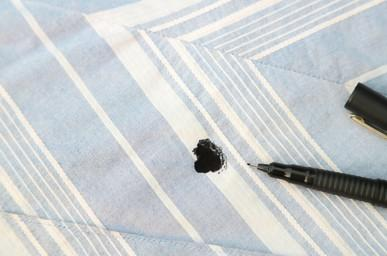gun: (189, 137, 226, 174)
